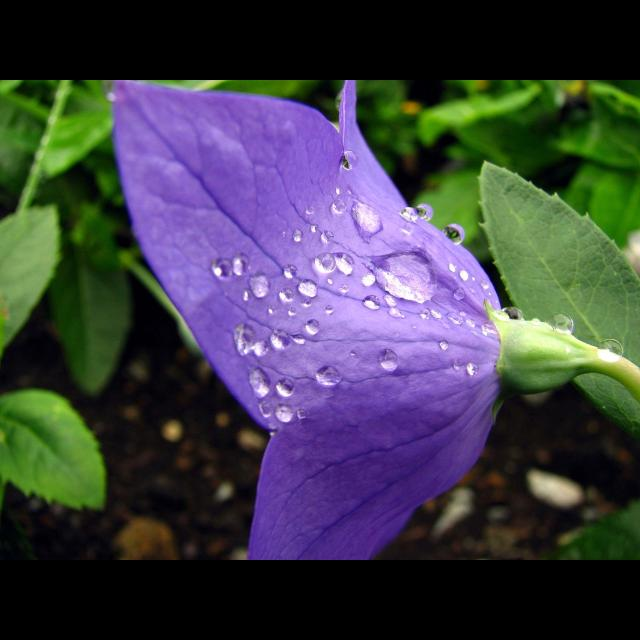Flower: (106, 97, 588, 533)
